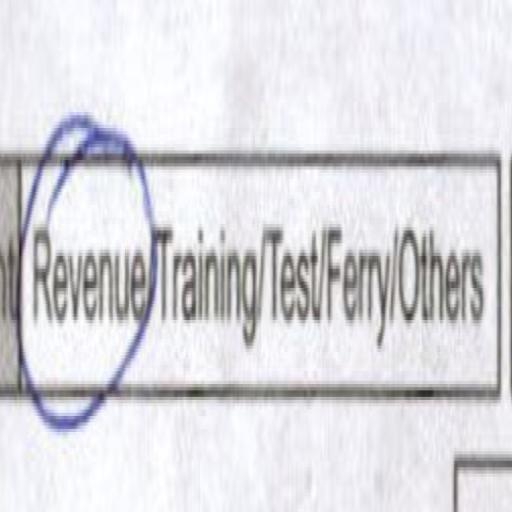check: (19, 95, 153, 423)
